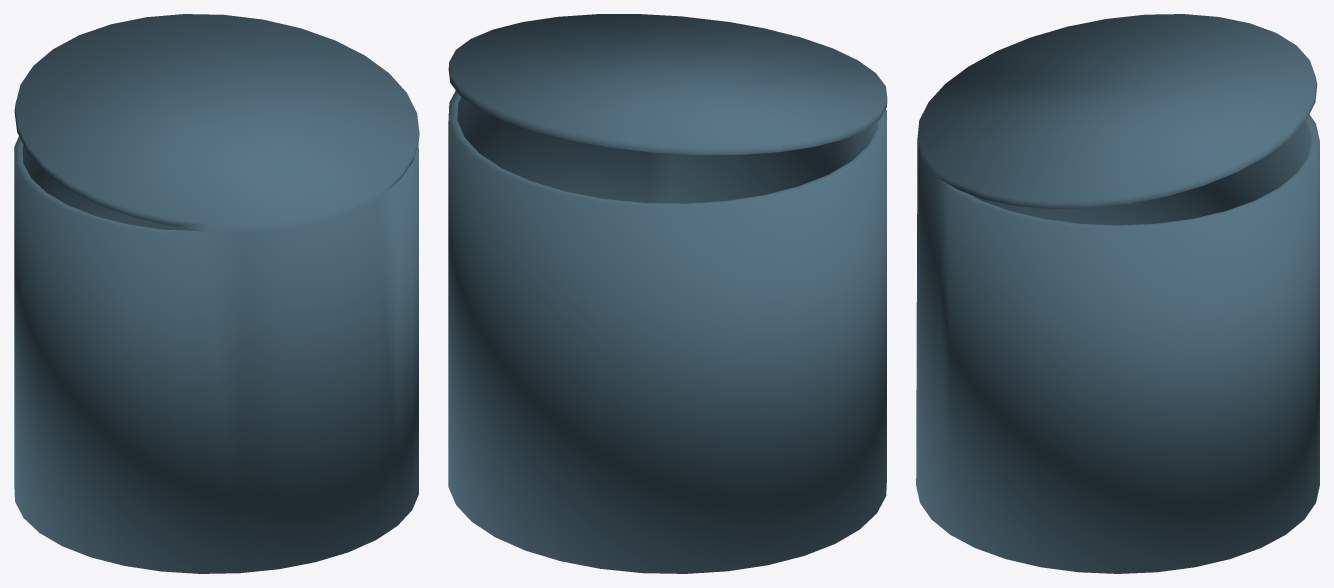
Rendered from Can.fbx.
The picture shows the model from 3 angles, left to right: view 1: azimuth 30°, elevation 25°; view 2: azimuth 150°, elevation 25°; view 3: azimuth 270°, elevation 25°; orthographic projection. The views are drawn at different scales.
Parts seen in each view (by area): view 1: Can; view 2: Can; view 3: Can.
Part boxes in pixels (x1,y1,x2,y2): Can: (14, 14, 419, 573); Can: (448, 14, 887, 573); Can: (916, 14, 1319, 573).
Size of the model in its own units: 175 by 187 by 170.
